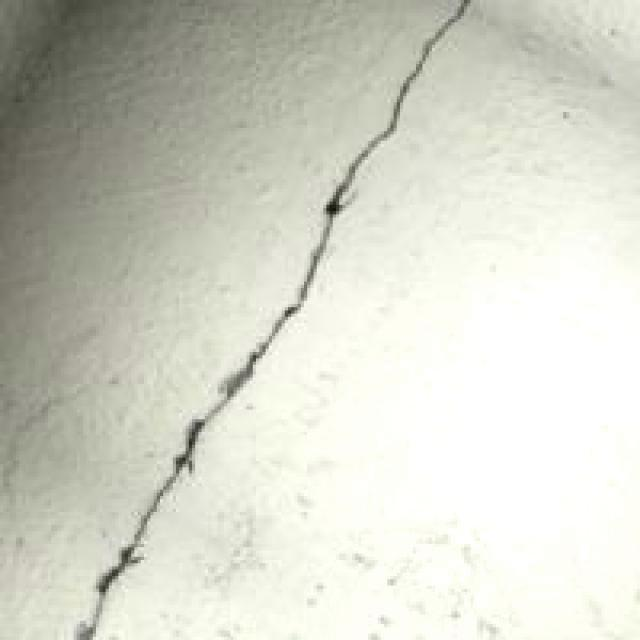SurfaceCrack: (78, 0, 490, 640)
